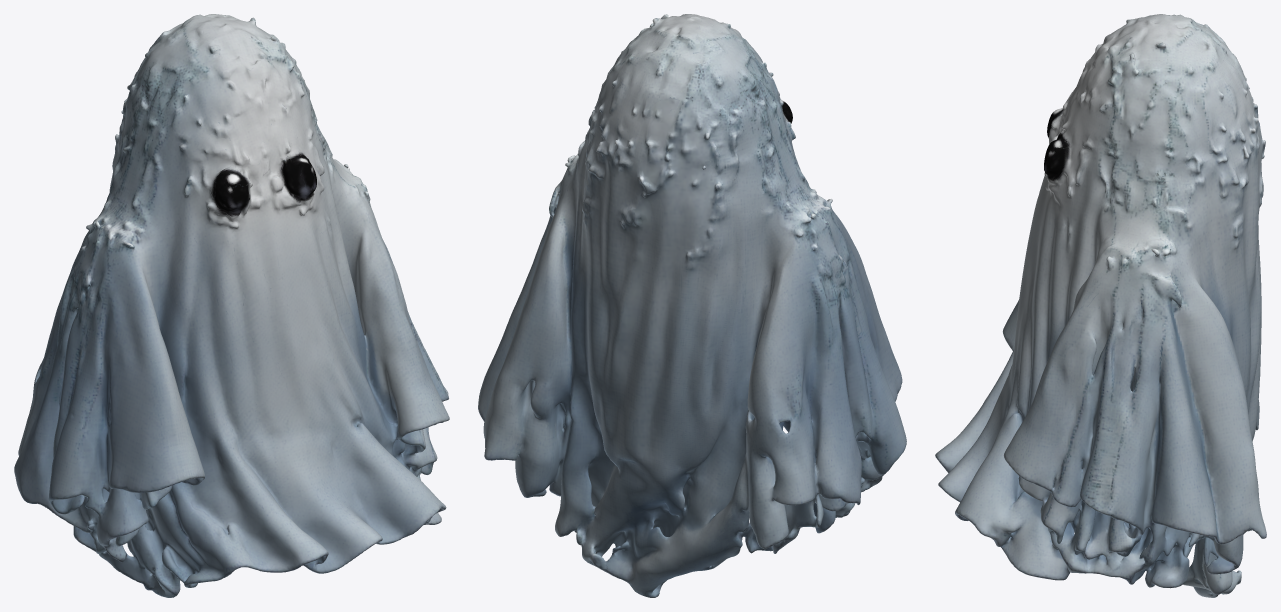
File: ghost.glb
3 views of the same model, side by side, from view 1: azimuth 30°, elevation 25°; view 2: azimuth 150°, elevation 25°; view 3: azimuth 270°, elevation 25° (orthographic). The views are drawn at different scales.
Parts seen in each view (by area): view 1: world; view 2: world; view 3: world.
Boxes of the visible parts, box(x1,y1,x2,y2) form: world: box(14, 14, 449, 597); world: box(478, 14, 906, 597); world: box(935, 14, 1266, 597).
Bounding box in the file's own units: 0.7173 × 1 × 0.5287.
1 material, 1 textured.
